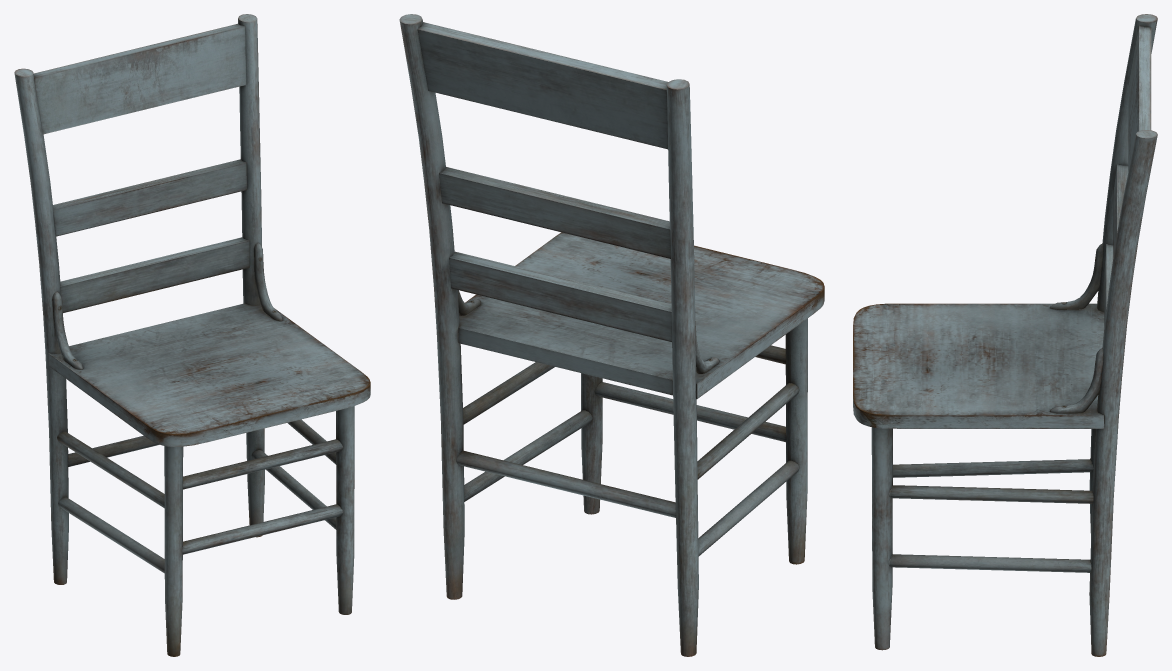
Rendered from painted_wooden_chair_02.glb.
3 views of the same model, side by side, from view 1: azimuth 30°, elevation 25°; view 2: azimuth 150°, elevation 25°; view 3: azimuth 270°, elevation 25° (orthographic). The views are drawn at different scales.
Visible parts, largest first — view 1: painted_wooden_chair_02; view 2: painted_wooden_chair_02; view 3: painted_wooden_chair_02.
Part boxes in pixels (left/top/right/bottom): painted_wooden_chair_02: left=14, top=14, right=370, bottom=656; painted_wooden_chair_02: left=399, top=14, right=824, bottom=656; painted_wooden_chair_02: left=853, top=14, right=1157, bottom=656.
Size of the model in its own units: 0.6394 by 1.26 by 0.6621.
Materials: 1 (1 with a texture image).
